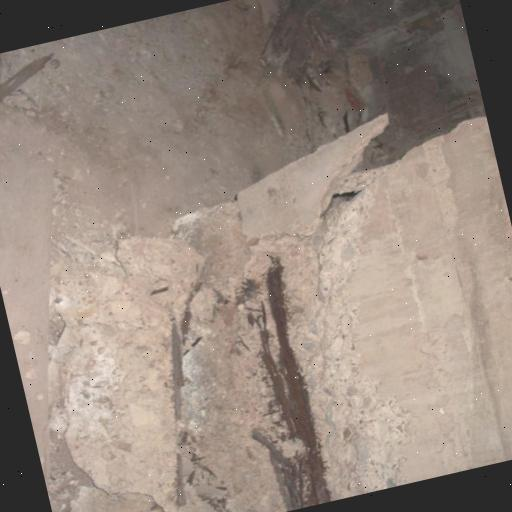spalling: (180, 178, 410, 512)
